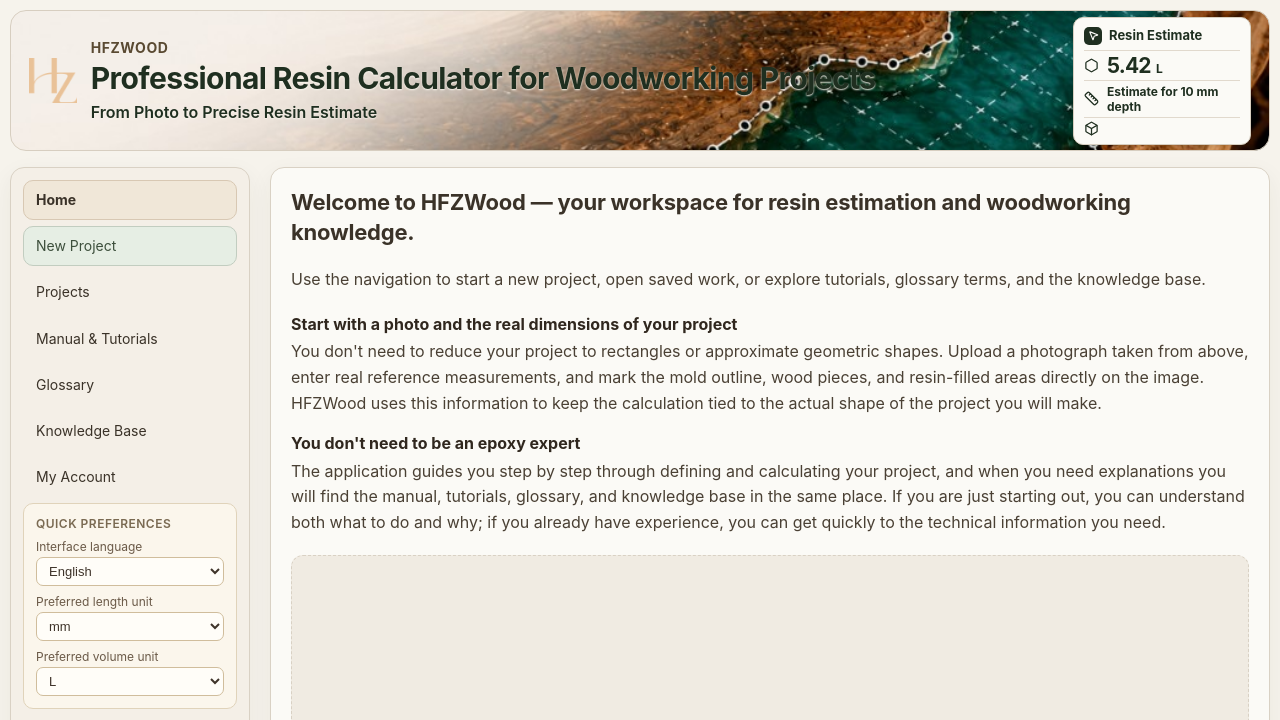
Admin Panel foundation › with an authenticated user › keeps existing user-facing routes working
The image size is (1280, 720).
Click the link "Projects".
click(63, 292)  # box [36, 283, 90, 300]
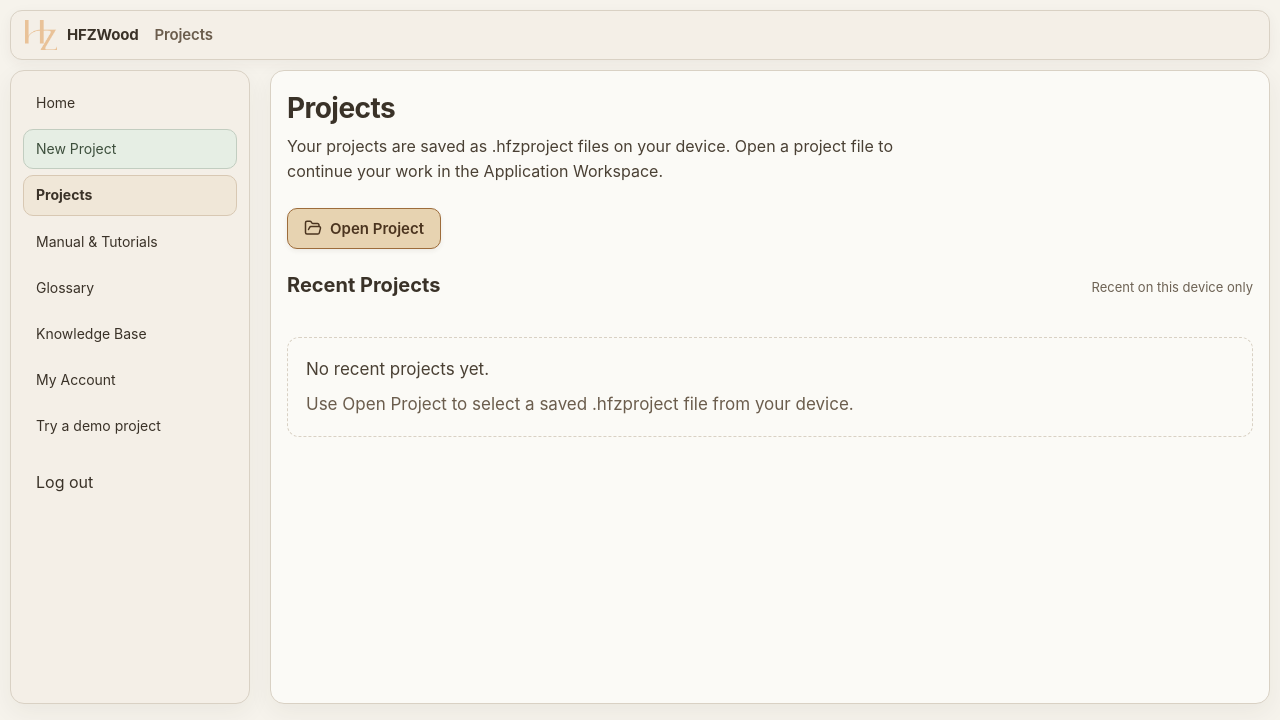
Check: the heading "Projects" is shown, box [287, 91, 395, 125]
Check: the button "Open Project" is shown, box [287, 208, 441, 249]
